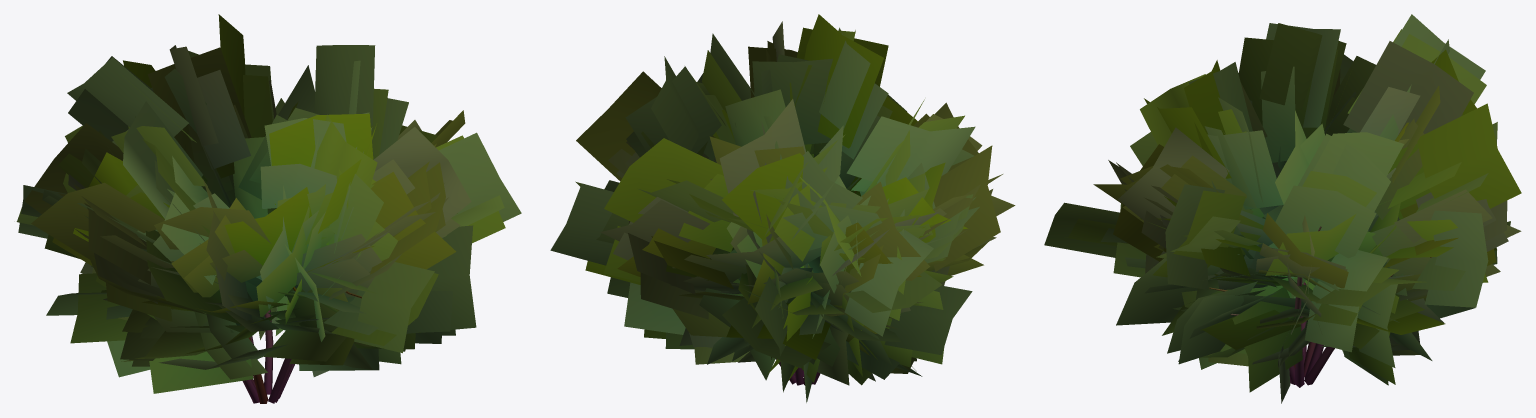
Rendered from veg_bush_a.glb.
The picture shows the model from 3 angles, left to right: view 1: azimuth 30°, elevation 25°; view 2: azimuth 150°, elevation 25°; view 3: azimuth 270°, elevation 25°; orthographic projection.
Parts seen in each view (by area): view 1: veg_bush_a_LOD0; view 2: veg_bush_a_LOD0; view 3: veg_bush_a_LOD0.
Boxes of the visible parts, bbox=[...] form: veg_bush_a_LOD0: bbox=[16, 14, 521, 403]; veg_bush_a_LOD0: bbox=[550, 14, 1015, 402]; veg_bush_a_LOD0: bbox=[1044, 14, 1521, 403].
Size of what is drawn, in the model's own units: 1.83 by 1.36 by 1.81.
